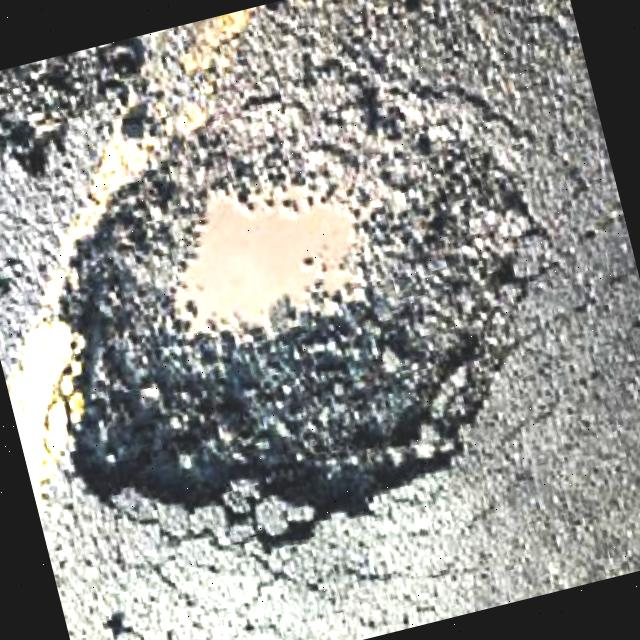pothole: (0, 42, 638, 609)
